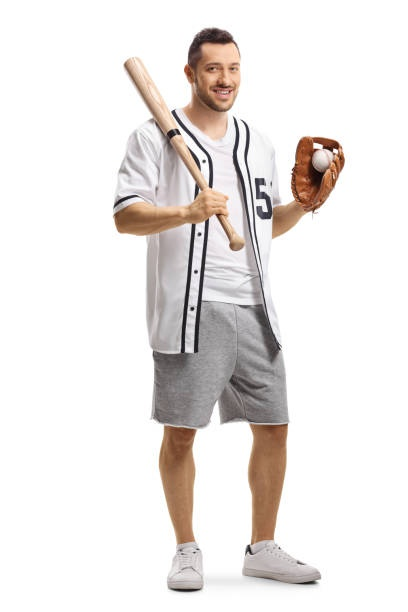bita: (124, 44, 240, 248)
